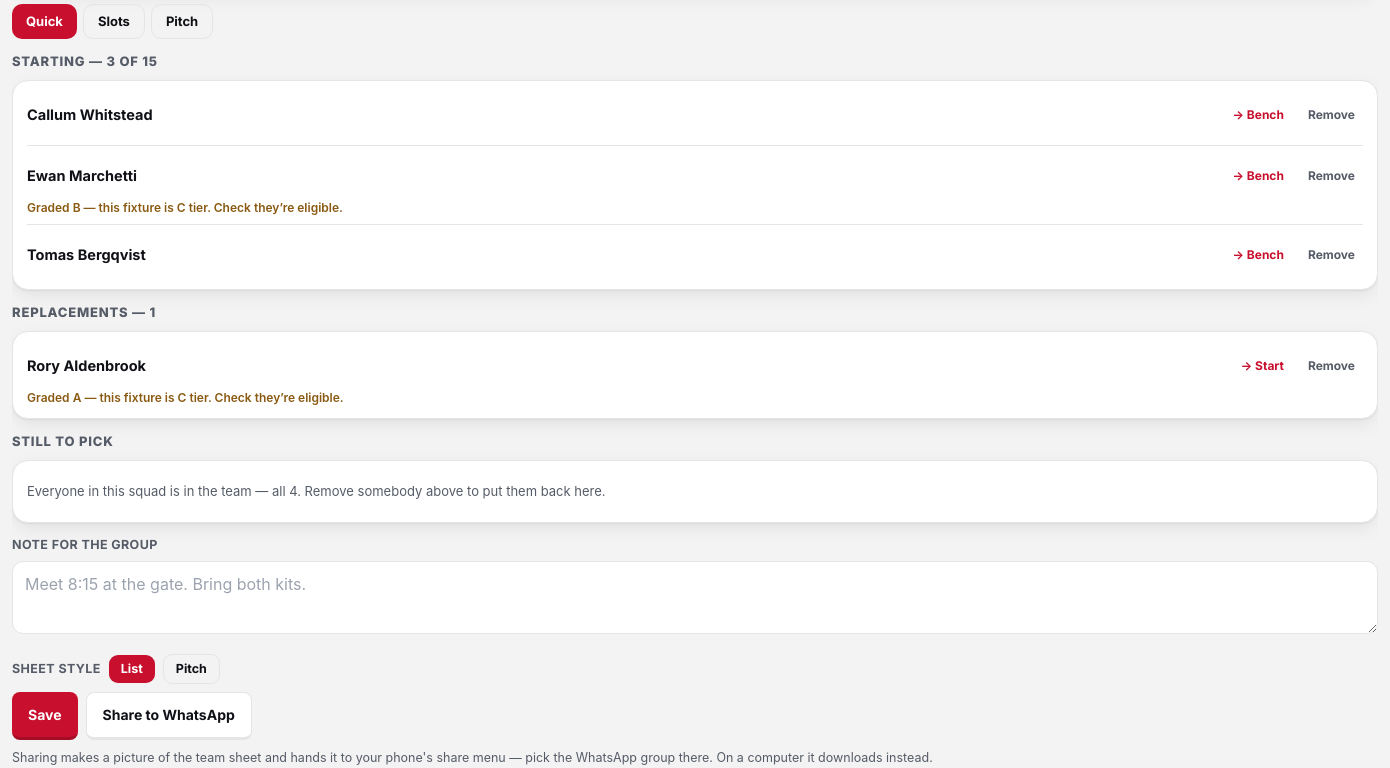
it warns and never blocks › says what the share sheet did — a desktop download is not silence
(page scrolled)
Expected: the text "Rory Aldenbrook" is shown, [27, 357, 146, 374]
Click the button "Share to WhatsApp" at (169, 716), box [86, 692, 252, 740]
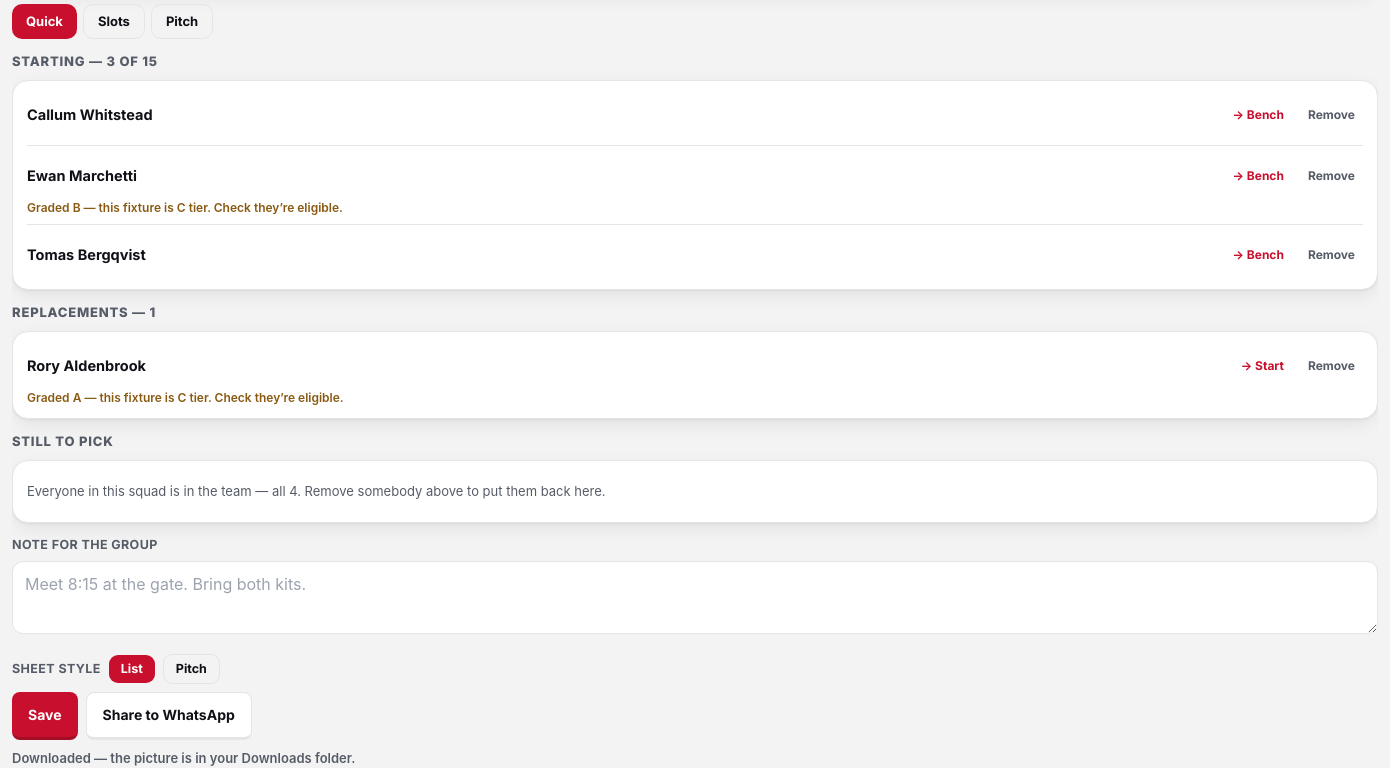
Expected: the message with test id "share-note" shows "Downloads folder", [12, 750, 355, 766]
Click the button "Share to WhatsApp" at (169, 716), box [86, 692, 252, 740]
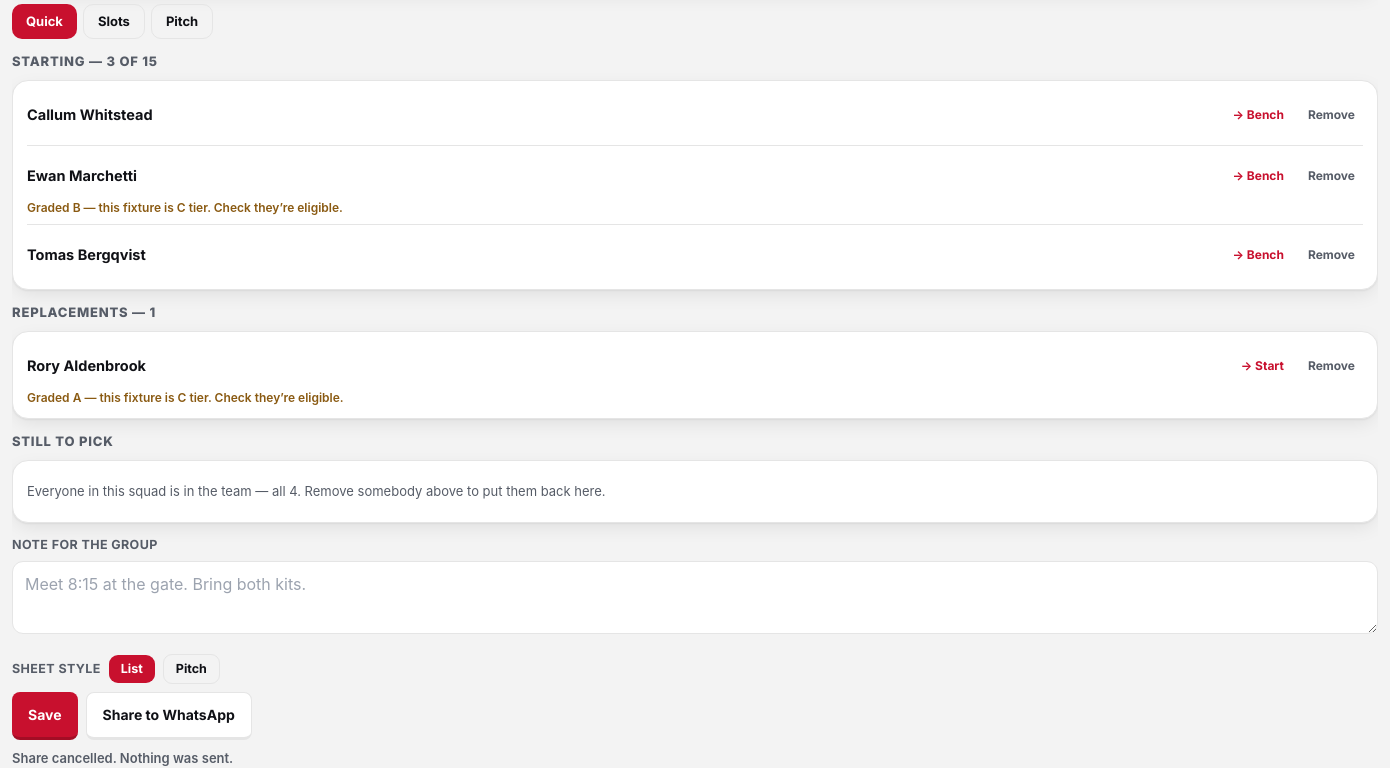
Expected: the message with test id "share-note" shows "Nothing was sent", [12, 750, 233, 766]
